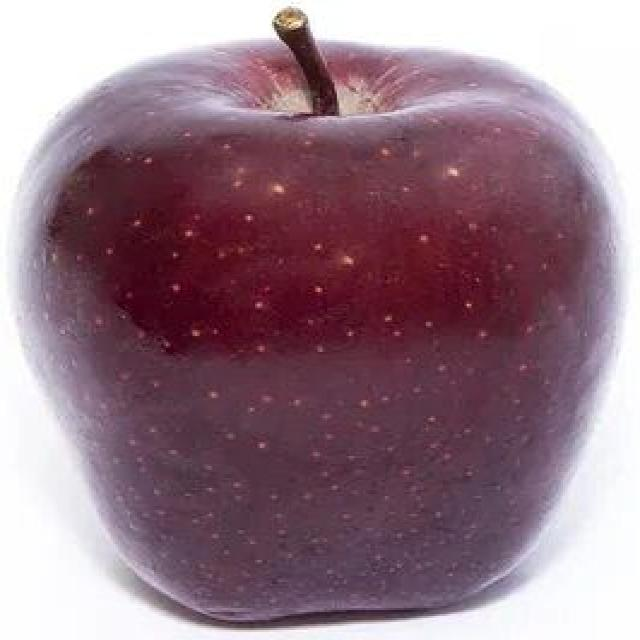Healty Apple: (10, 37, 623, 627)
